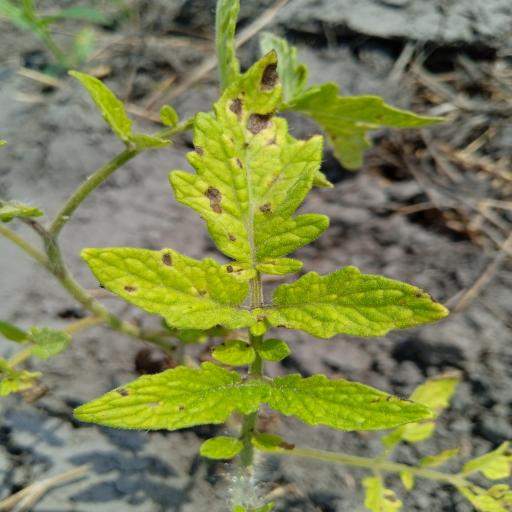Tomato_Brown_Spots: (170, 88, 333, 280), (76, 243, 258, 336), (70, 360, 272, 434), (263, 265, 454, 339), (268, 370, 440, 434)
